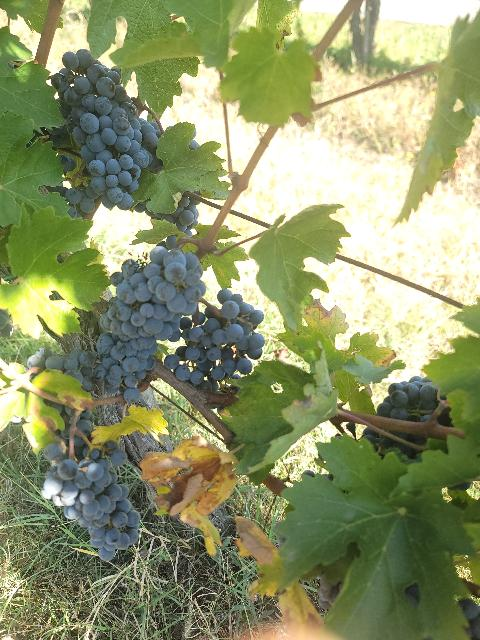grapes: (94, 245, 206, 402), (51, 49, 159, 210), (41, 440, 140, 561), (164, 289, 265, 391), (376, 376, 438, 420)
